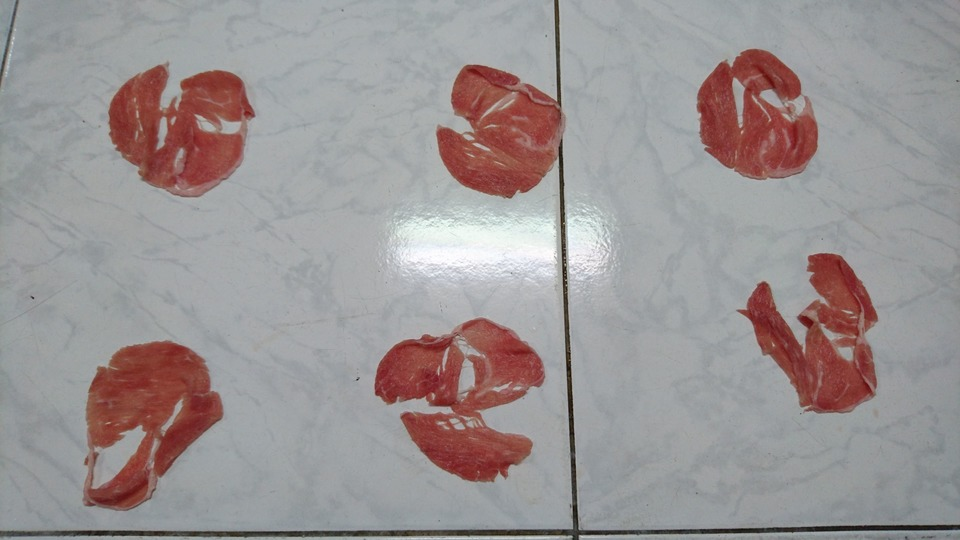restructured meat: (363, 300, 559, 497), (730, 230, 898, 430), (64, 302, 219, 506), (419, 50, 585, 198), (117, 46, 253, 202), (688, 48, 829, 185)
